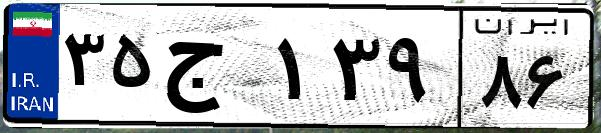1: (270, 28, 330, 110)
3: (330, 28, 385, 110), (57, 26, 110, 100)
5: (110, 28, 158, 98)
6: (525, 38, 570, 115)
8: (475, 38, 525, 113)
9: (385, 28, 445, 110)
ج: (158, 20, 270, 120)
